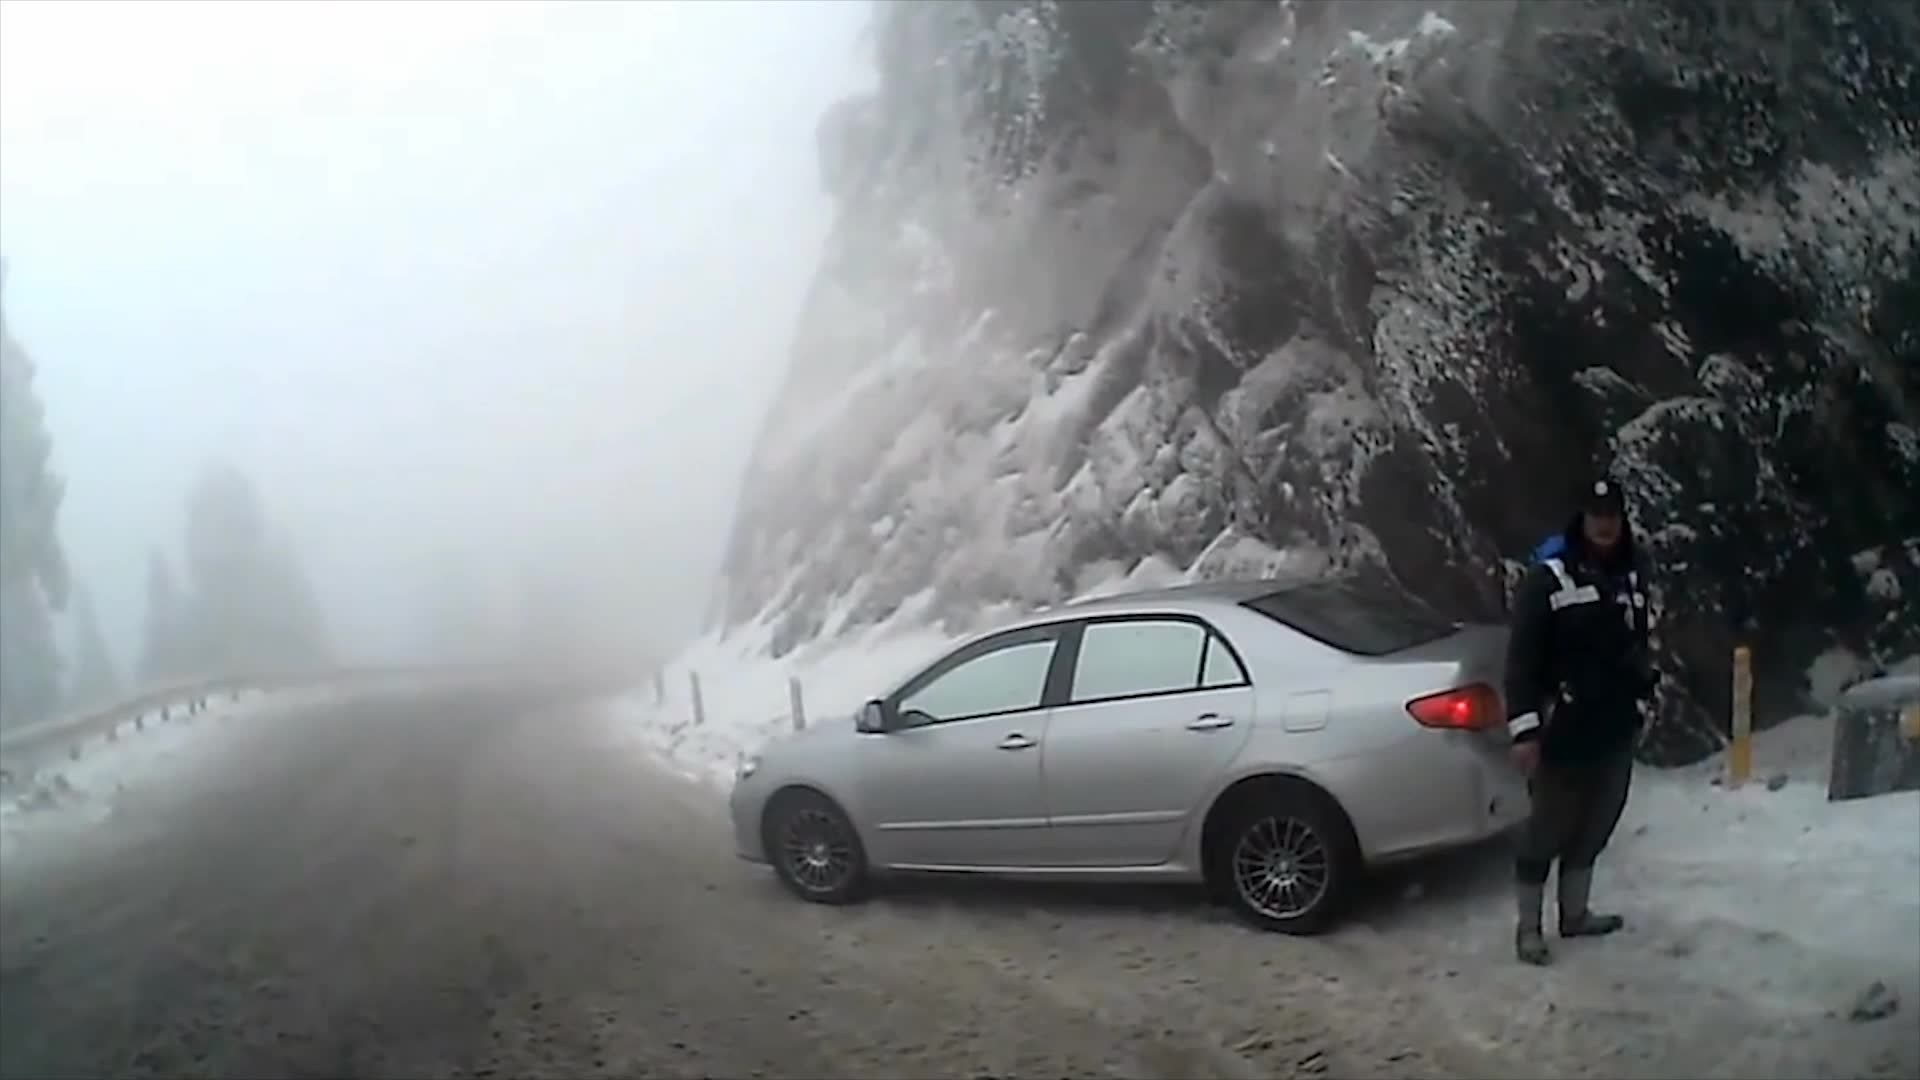pedestrian: (1502, 478, 1666, 967)
vehicle: (724, 575, 1599, 933)
